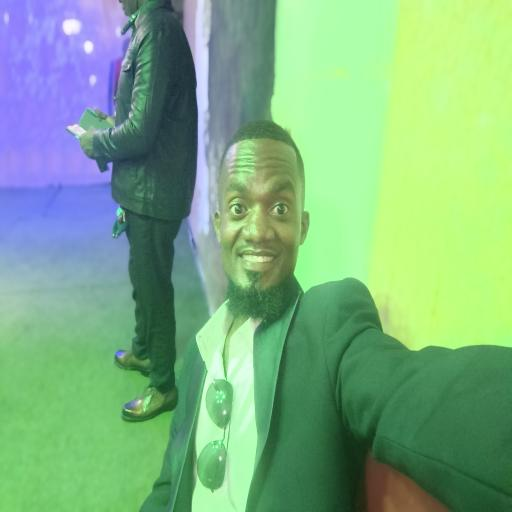MATTHIEU: (211, 117, 313, 324)
